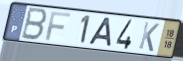1: (79, 15, 91, 46)
4: (115, 18, 135, 50)
A: (87, 16, 113, 49)
B: (19, 6, 50, 43)
F: (44, 11, 72, 42)
K: (137, 20, 162, 54)
